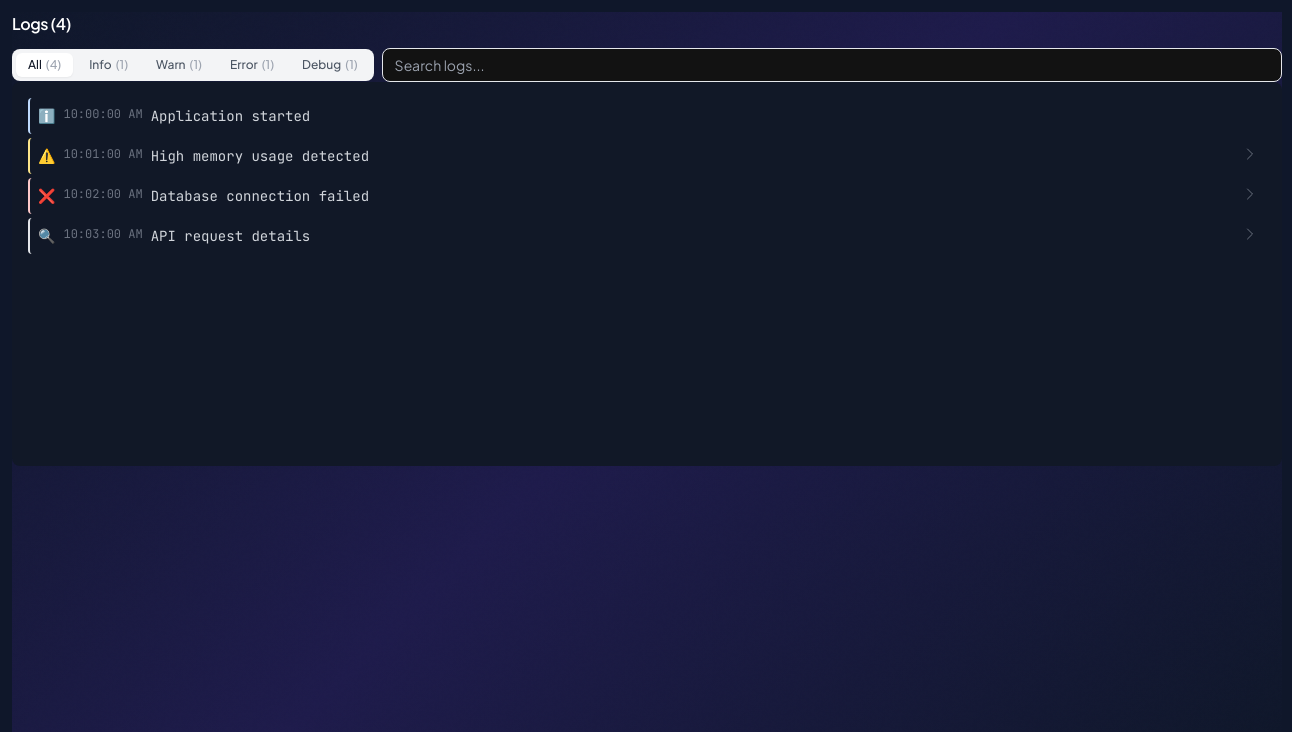
LogViewer Component › Level Filtering › filters by info level
Click the button "Info(1)": (109, 65) [77,53,140,77]
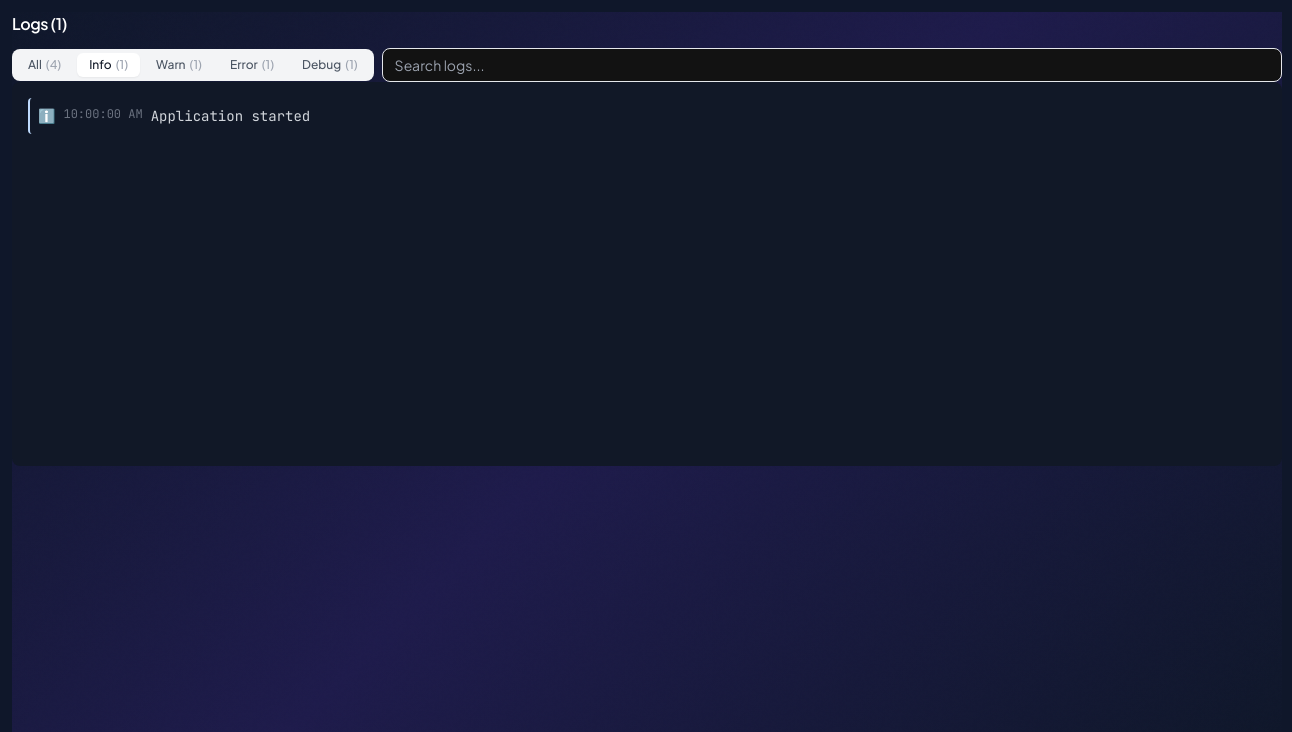
Expected: the text "Application started" is shown, [151,107,310,125]
Expected: the text "High memory usage detected" is gone
